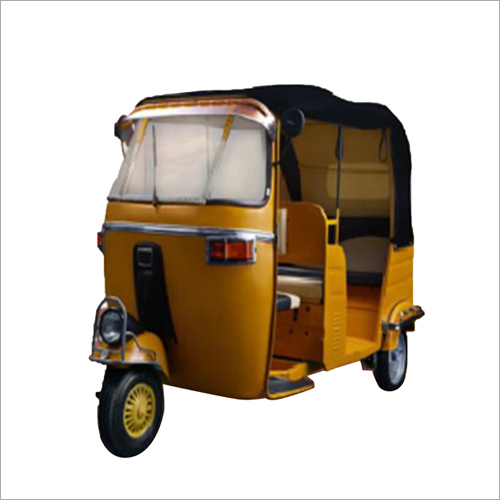rickshaw: (72, 83, 429, 453)
